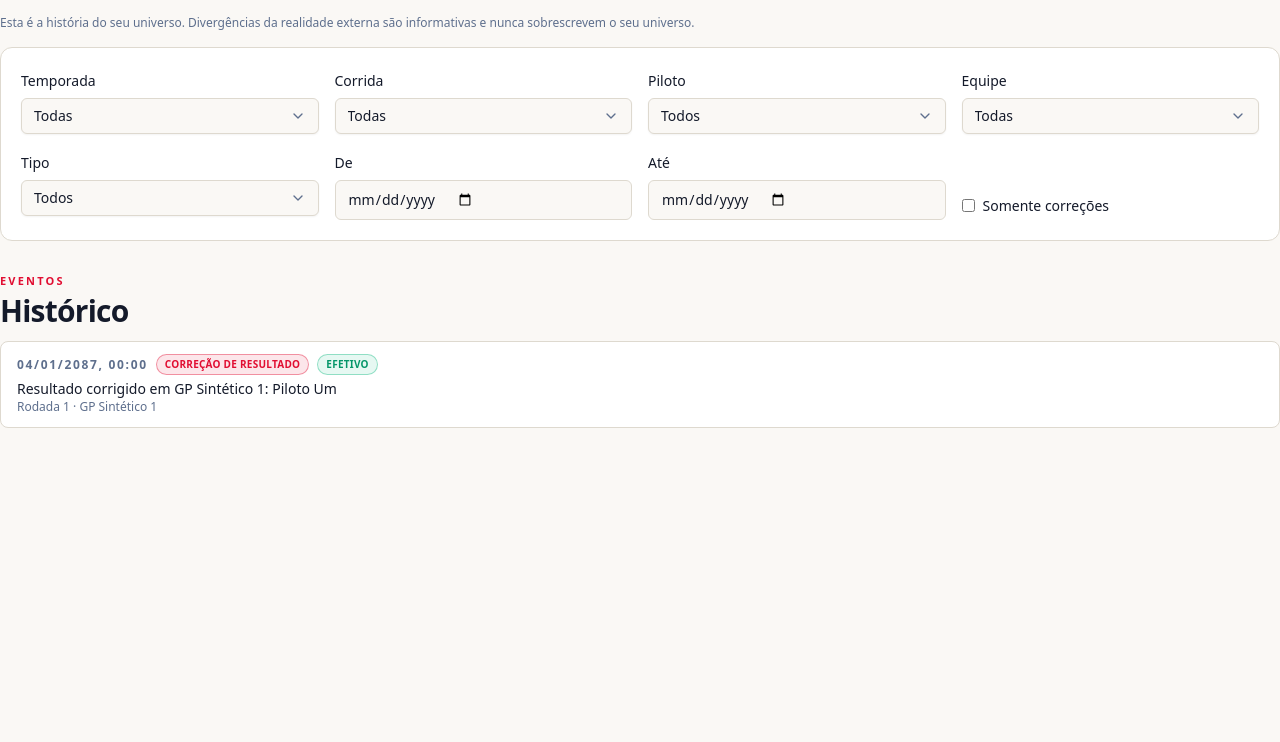
Test case: TimelineEventPanel editor › 1) mostra abas, estado atual e formulário por kind
The image size is (1280, 742).
Click the button named "Resultado corrigido em GP Sintético 1: Piloto Um". click: (82, 364)
box: [0,341,1279,428]
(page scrolled)
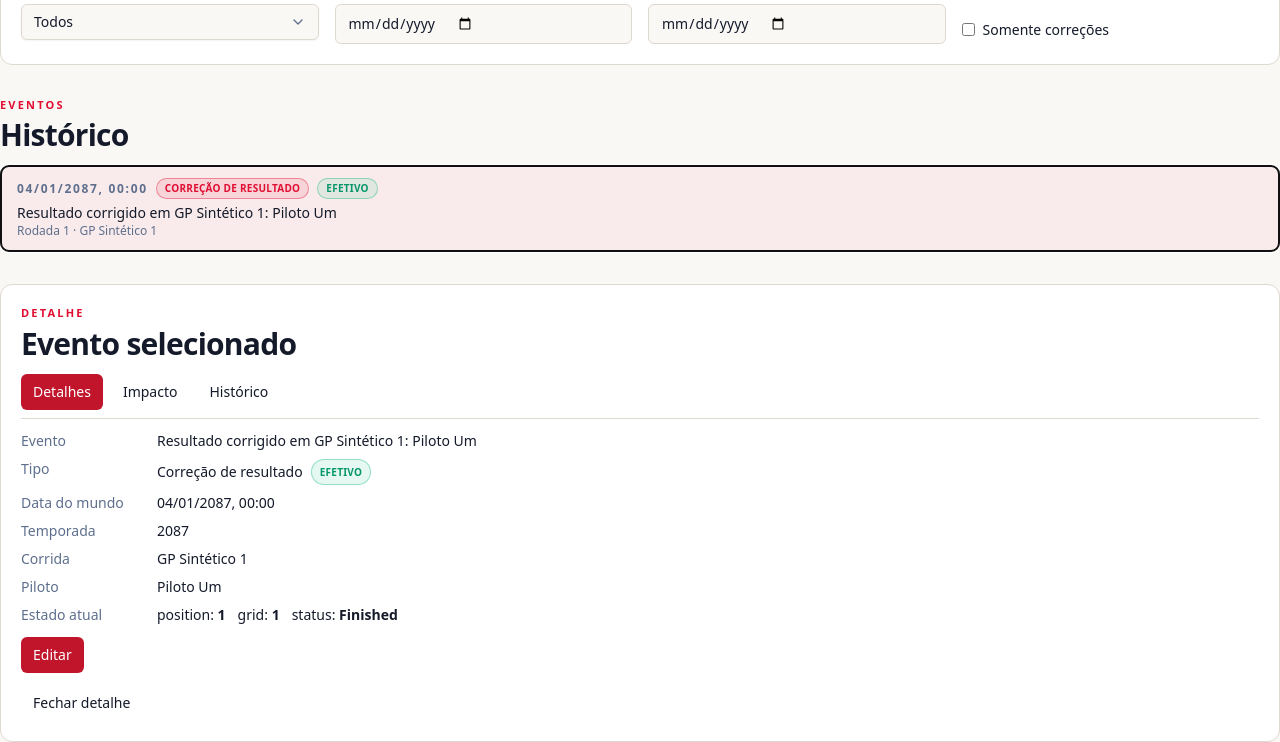
Result: the tab "Detalhes" is shown at [21,374,103,410]
Result: the tab "Impacto" is shown at [111,374,189,410]
Result: the tab "Histórico" is shown at [197,374,280,410]
Click the button "Editar". click: (52, 654)
box: [21,636,84,672]
(page scrolled)
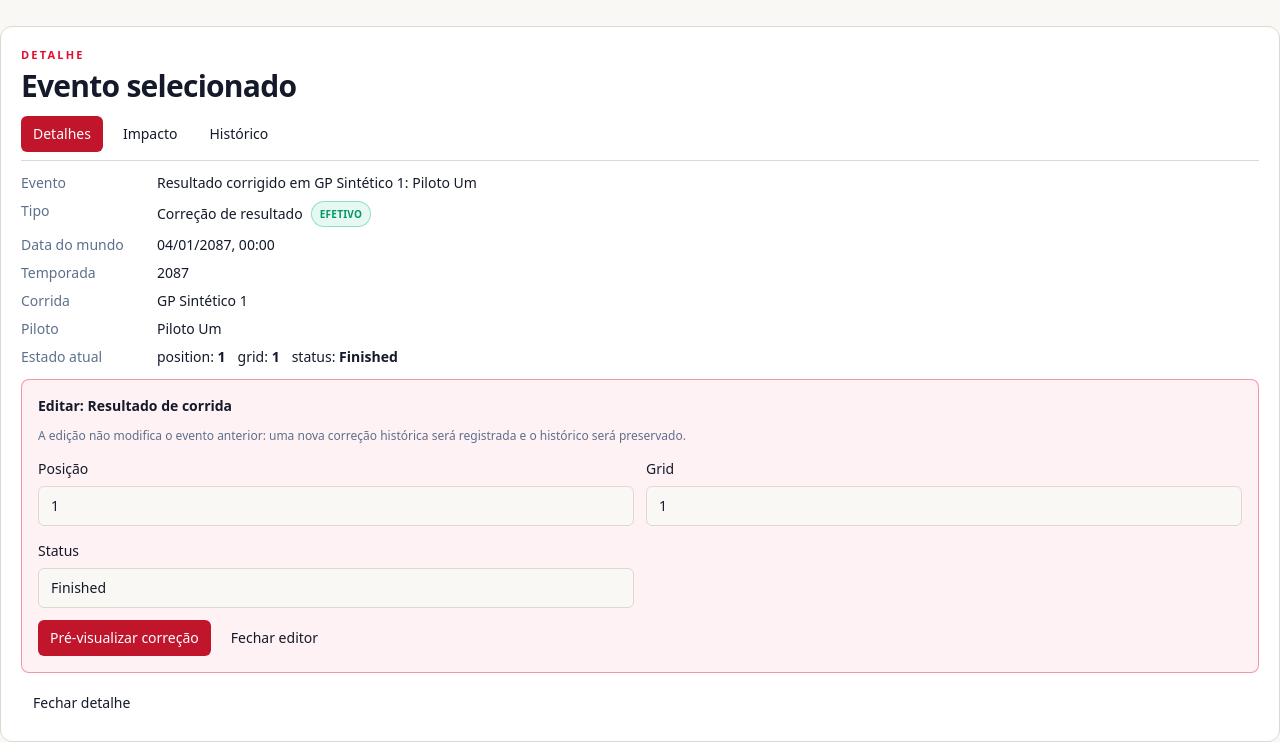
Result: the text "Editar: Resultado de corrida" is shown at [38,396,232,414]
Result: the number field labelled "Posição" holds "1" at [38,486,634,526]
Result: the field labelled "Status" holds "Finished" at [38,568,634,608]
